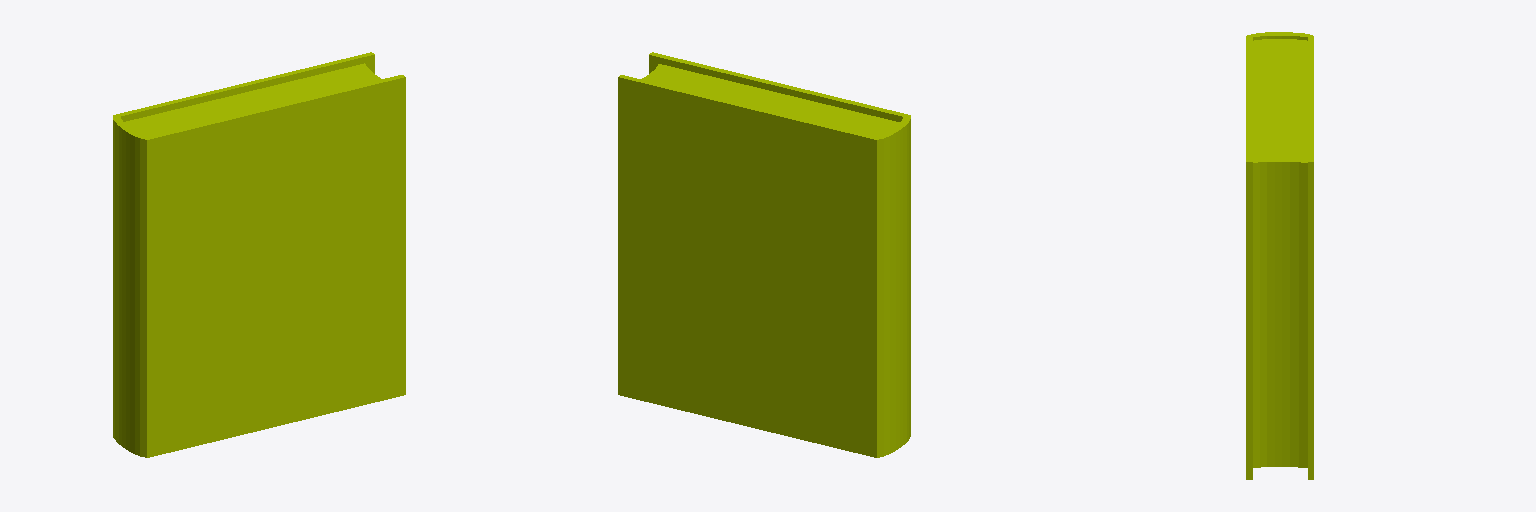
File: book-yellow.obj
The picture shows the model from 3 angles: view 1: azimuth 30°, elevation 25°; view 2: azimuth 150°, elevation 25°; view 3: azimuth 270°, elevation 25°; orthographic projection.
Visible parts, largest first — view 1: Cube.001; view 2: Cube.001; view 3: Cube.001.
Boxes of the visible parts, x1,y1,x2,y2 form: Cube.001: [113, 52, 405, 457]; Cube.001: [618, 52, 910, 457]; Cube.001: [1246, 32, 1313, 479].
Size of the model in its own units: 0.4137 by 0.4733 by 0.0919.